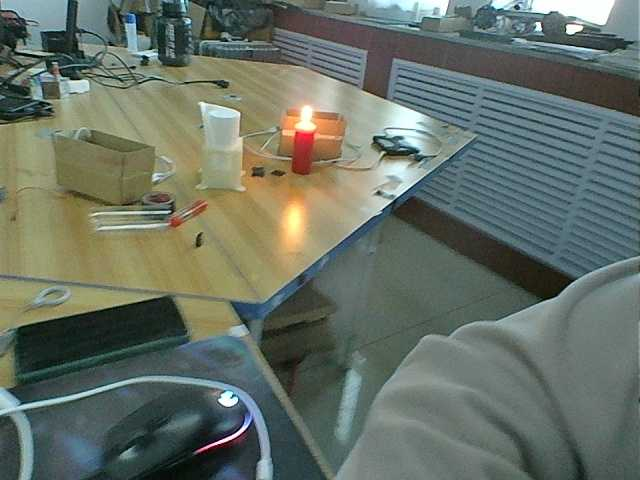candle: (288, 125, 319, 177)
fire: (296, 98, 318, 128)
